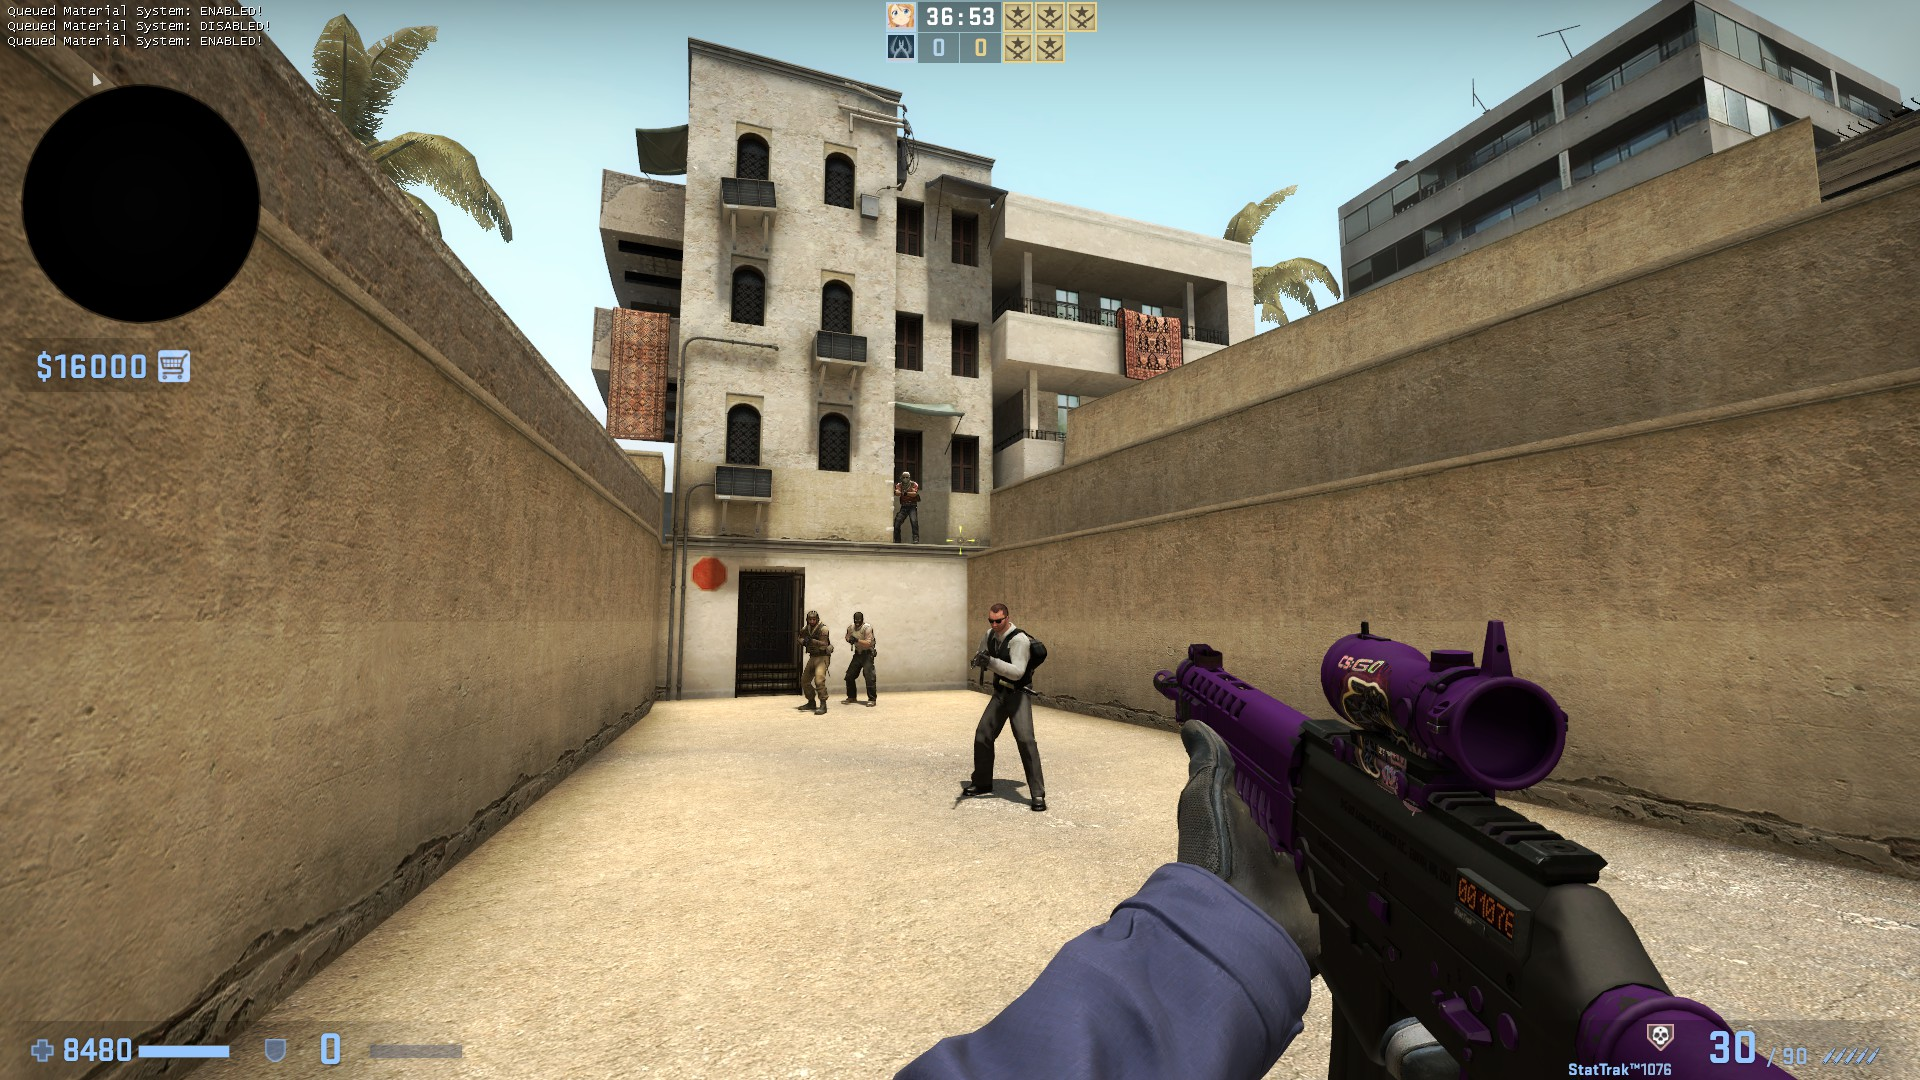head: (986, 602, 1008, 630), (805, 609, 820, 625), (898, 469, 912, 484), (851, 610, 863, 626)
